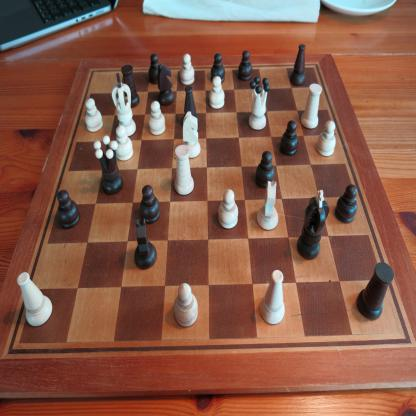black-bishop: (182, 85, 200, 130), (289, 43, 306, 87)
black-king: (296, 189, 330, 261)
black-knight: (133, 217, 158, 271), (156, 62, 174, 108)
black-pawn: (56, 189, 82, 231), (334, 183, 358, 225), (139, 184, 161, 225), (254, 149, 275, 190), (280, 118, 298, 157), (238, 49, 253, 82), (210, 52, 225, 84), (148, 53, 160, 85)
black-queen: (94, 134, 124, 196)
black-rook: (356, 261, 394, 321), (121, 64, 140, 109)
white-bishop: (17, 271, 54, 328), (259, 269, 286, 326)
white-king: (111, 73, 137, 137)
white-knight: (256, 180, 279, 232), (183, 111, 202, 158)
white-pawn: (174, 282, 198, 328), (217, 189, 239, 230), (316, 120, 336, 157), (85, 97, 103, 134), (149, 100, 166, 136), (179, 52, 196, 86), (209, 76, 225, 110)
white-queen: (248, 76, 271, 131)
white-rook: (174, 144, 195, 196), (301, 82, 322, 128)
